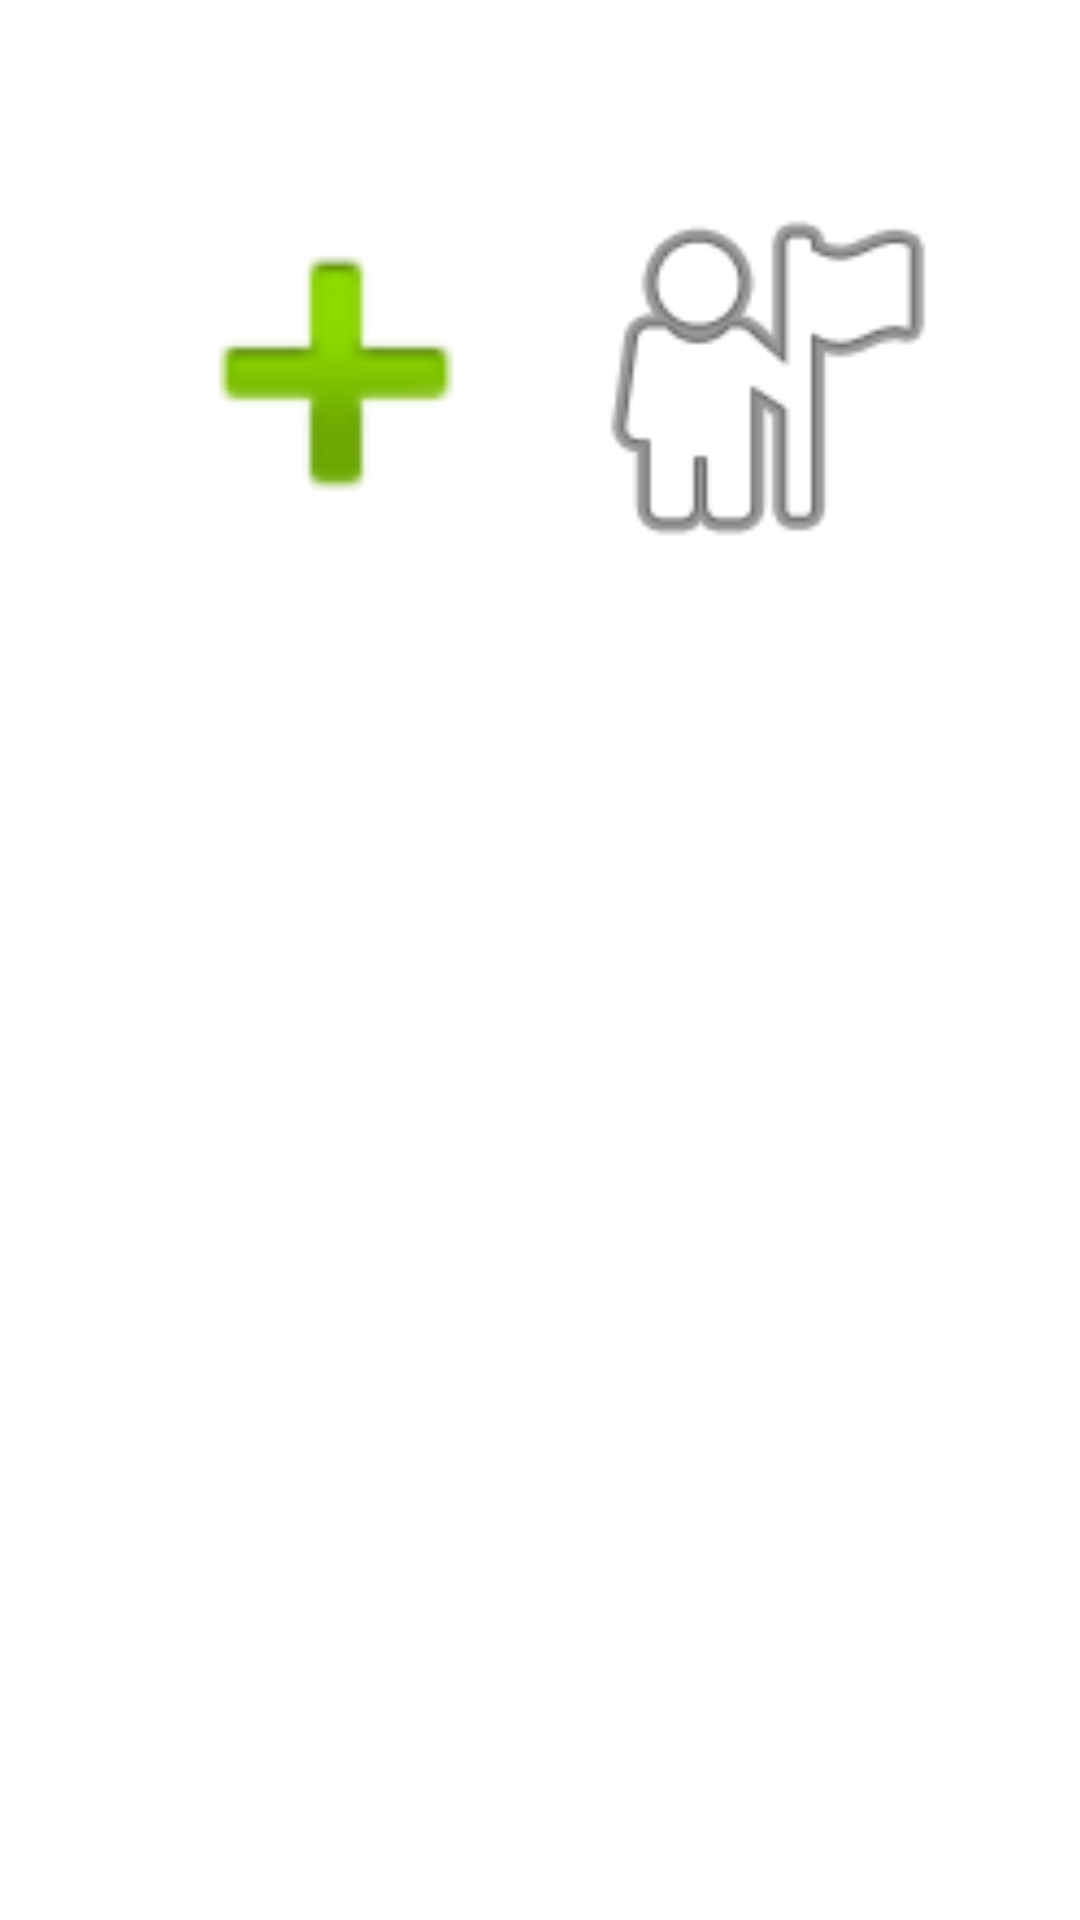

Where to tap for icons on this 1080px x 1920px app screen, as [x,y]:
add: [336,373]
myplaces: [768,378]
